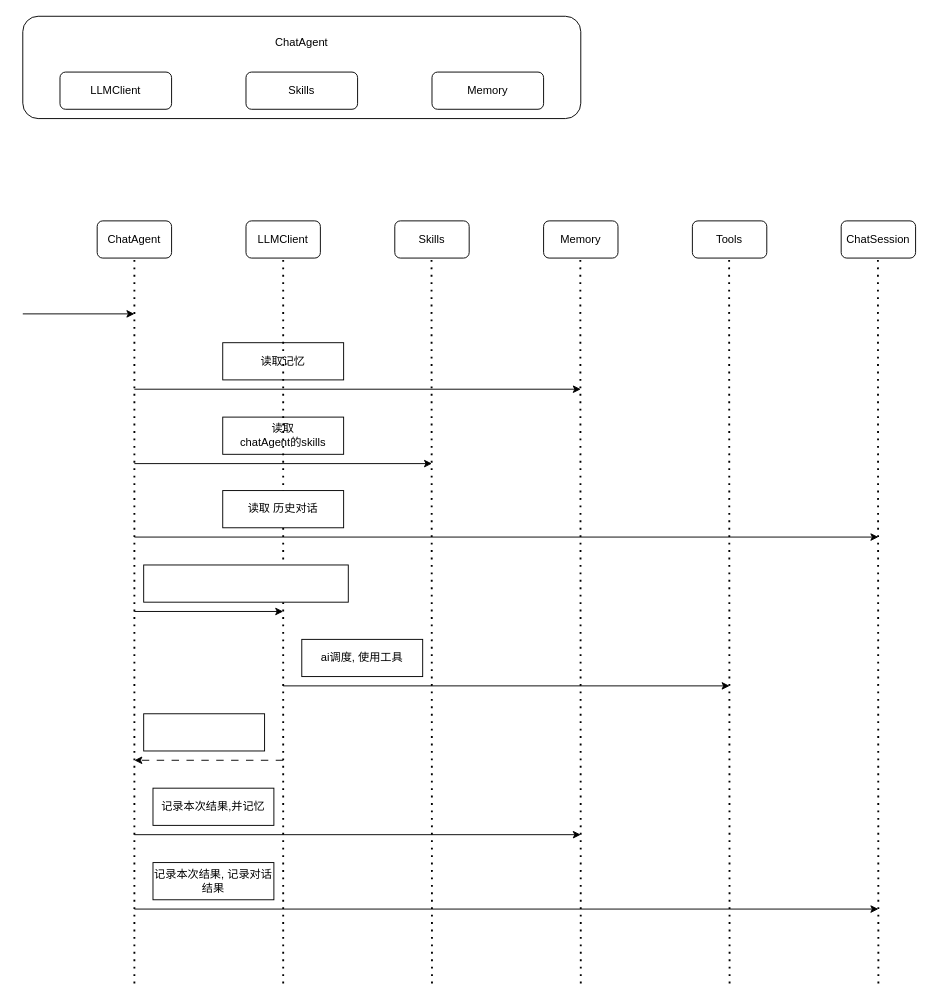
This 932x1002 diagram has some shape labels left out. The box of each missing label's shape, as (x1, y1, x2, y2) in pixels:
记忆 + chatAgent + Agent 配置 + 历史对话(100条) + 历史对话总结 + 用户请求: (143, 564, 348, 602)
调用结束: (143, 713, 265, 751)
